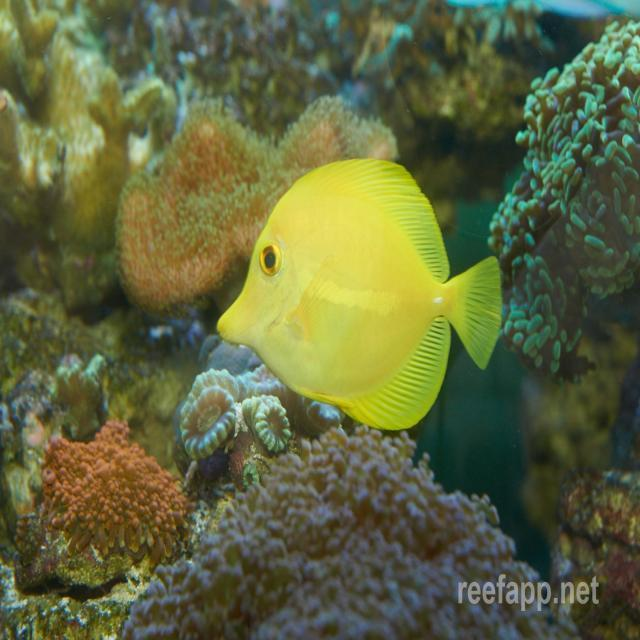TangFish: (214, 156, 506, 435)
